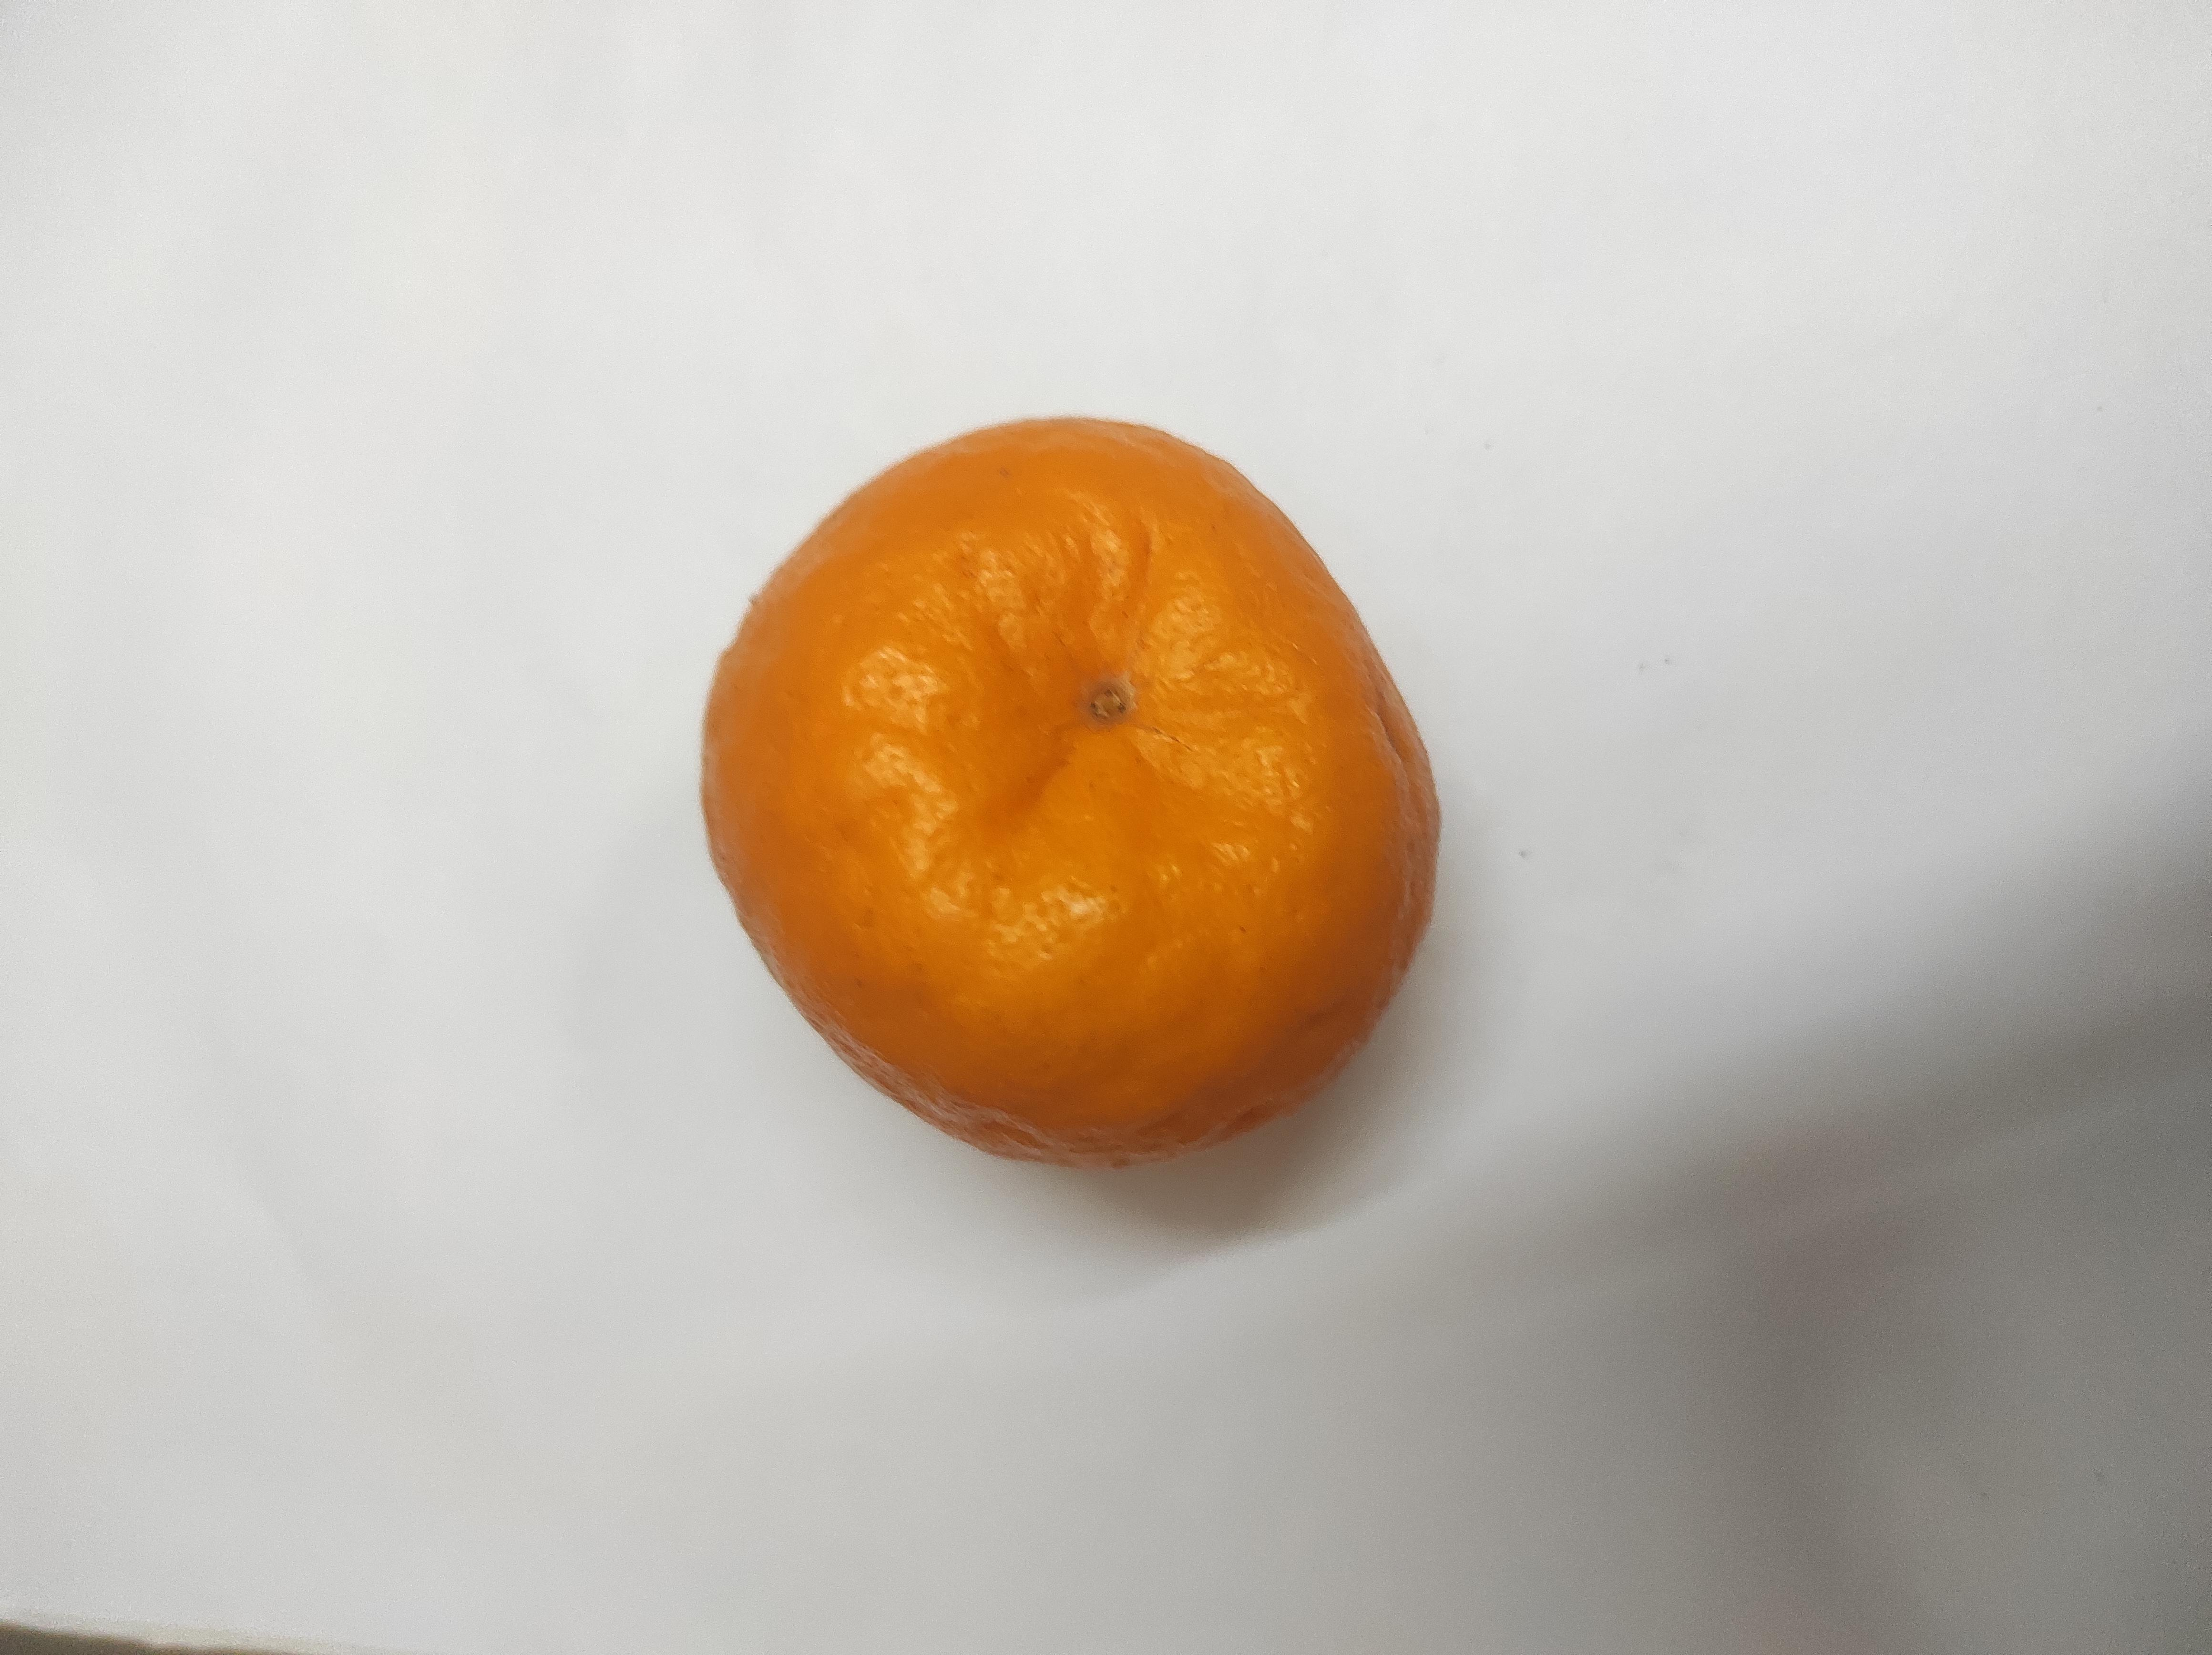Ripe: (643, 528, 1657, 1071)
